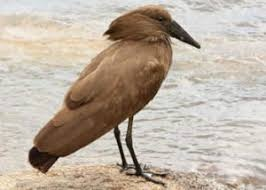bird: (23, 1, 204, 190)
